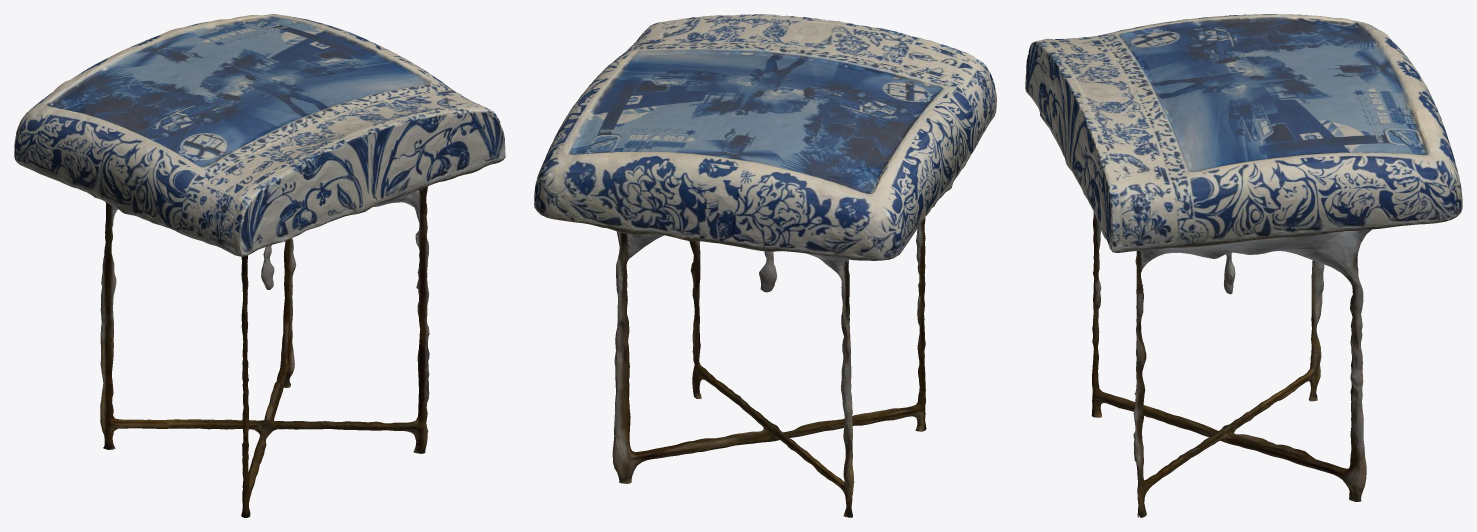
Rendered from GTA with Stand-2048.glb.
The picture shows the model from 3 angles, left to right: view 1: azimuth 30°, elevation 25°; view 2: azimuth 150°, elevation 25°; view 3: azimuth 270°, elevation 25°; orthographic projection. The views are drawn at different scales.
Size of the model in its own units: 0.2568 by 0.2411 by 0.2504.
Materials: 1 (1 with a texture image).
